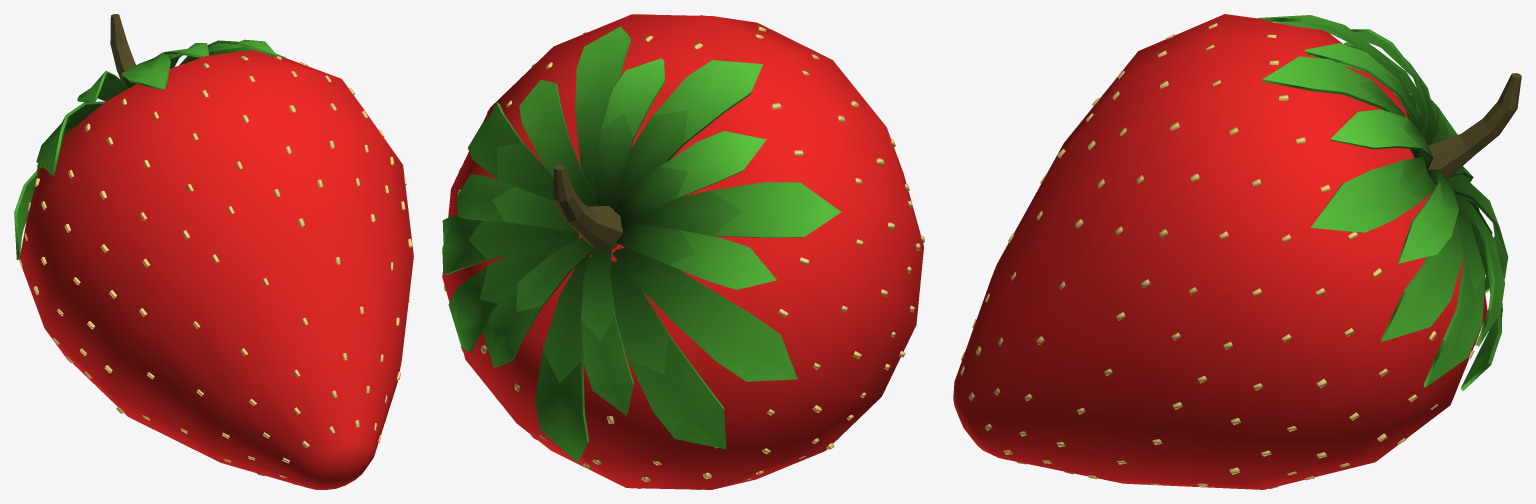
Rendered from Strawberry.fbx.
The picture shows the model from 3 angles, left to right: view 1: azimuth 30°, elevation 25°; view 2: azimuth 150°, elevation 25°; view 3: azimuth 270°, elevation 25°; orthographic projection. The views are drawn at different scales.
Parts seen in each view (by area): view 1: Strawberry; view 2: Strawberry; view 3: Strawberry.
Part boxes in pixels (x1,y1,x2,y2): Strawberry: (14,14,413,489); Strawberry: (442,14,924,489); Strawberry: (953,14,1521,489).
Size of the model in its own units: 0.2652 by 0.2673 by 0.3176.
Materials: 1 (1 with a texture image).
